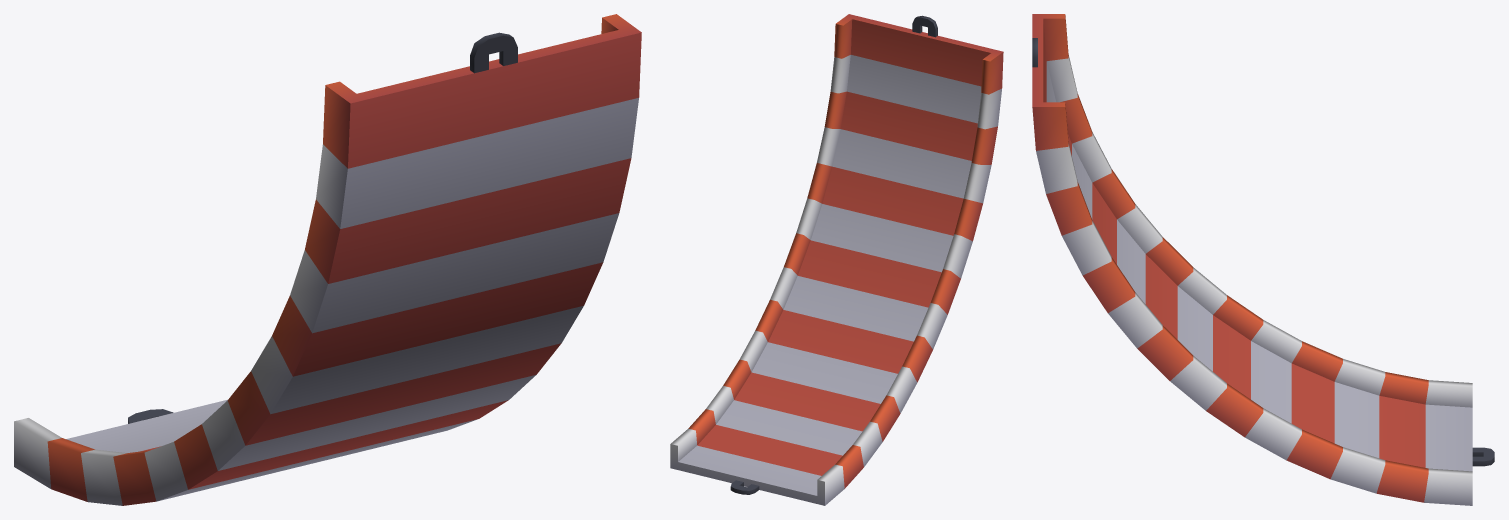
The model's file is track-striped-wide-straight-bend-large.glb.
3 renders of one model, left to right at view 1: azimuth 30°, elevation 25°; view 2: azimuth 150°, elevation 25°; view 3: azimuth 270°, elevation 25°, orthographic. The views are drawn at different scales.
Parts seen in each view (by area): view 1: track-striped-wide-straight-bend-large; view 2: track-striped-wide-straight-bend-large; view 3: track-striped-wide-straight-bend-large.
Part boxes in pixels (x1,y1,x2,y2): track-striped-wide-straight-bend-large: (14, 14, 641, 505); track-striped-wide-straight-bend-large: (670, 14, 1003, 505); track-striped-wide-straight-bend-large: (1032, 14, 1494, 505).
Size of the model in its own units: 2 by 4.2 by 4.2.
